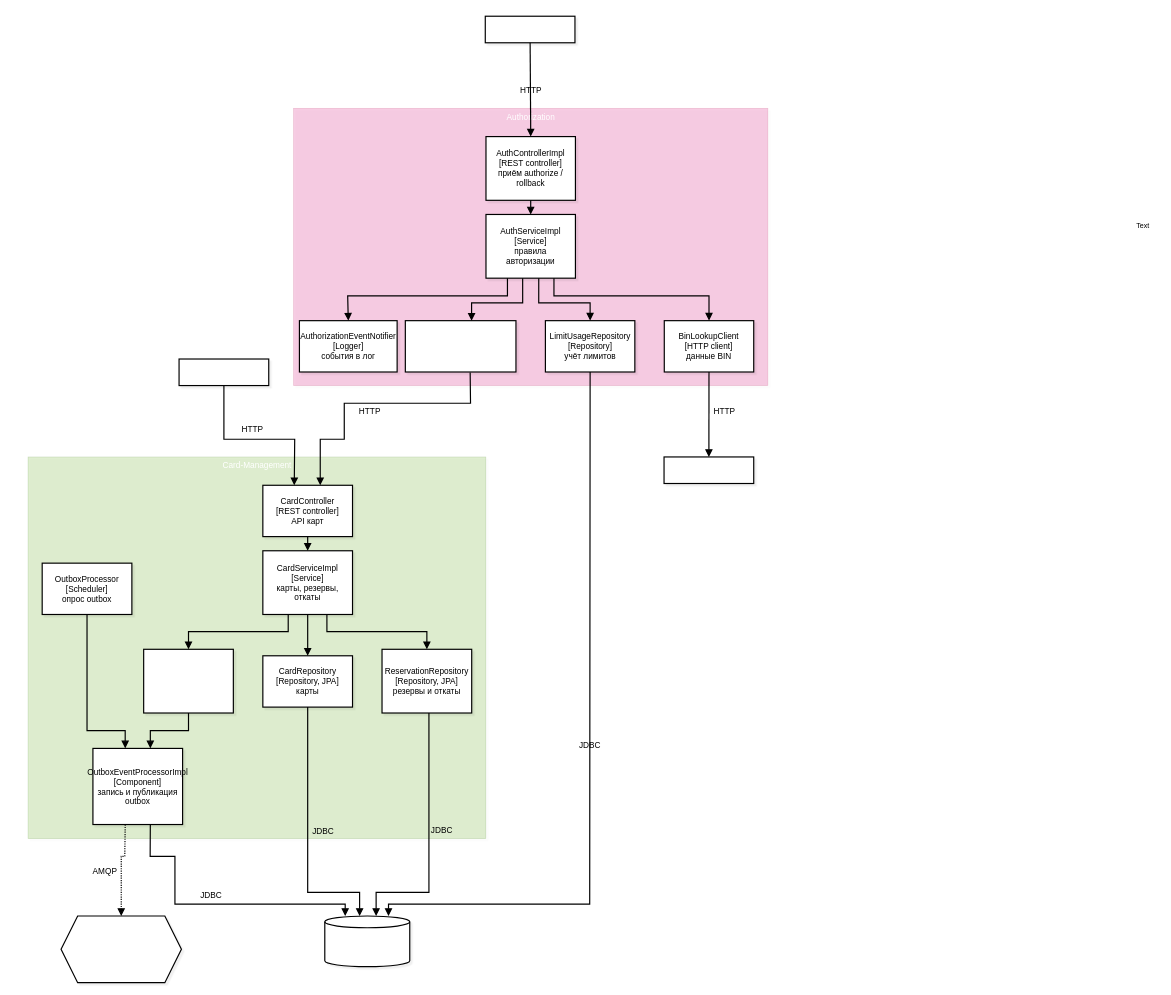
This 1171x995 diagram has some shape labels left out. Here are the shapes that lost their labels. From the top down, the centre of each, then its label:
the point at 531,30: Switch
the point at 461,347: CardManagementClientImpl [HTTP client] вызовы CMS
the point at 224,373: Gateway
the point at 709,471: BIN Lookup
the point at 189,682: CardEventNotifierImpl [Component] событие → outbox
the point at 122,950: RabbitMQ smp.card-events
the point at 368,942: PostgreSQL
